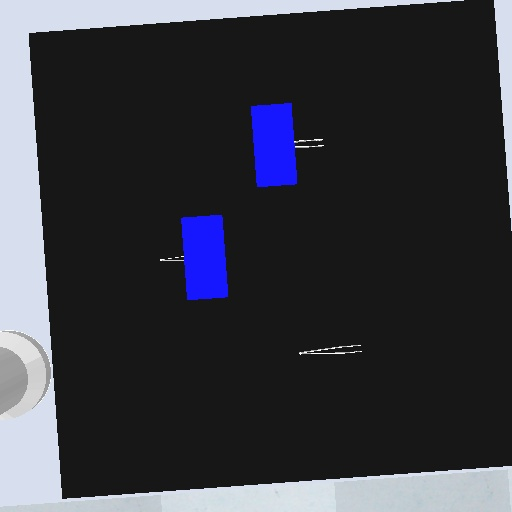pinza: (295, 341, 366, 358), (293, 135, 327, 152), (157, 253, 186, 265)
